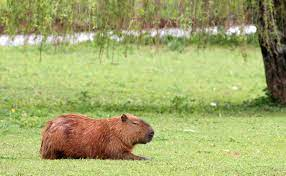capivara: (40, 113, 155, 160)
